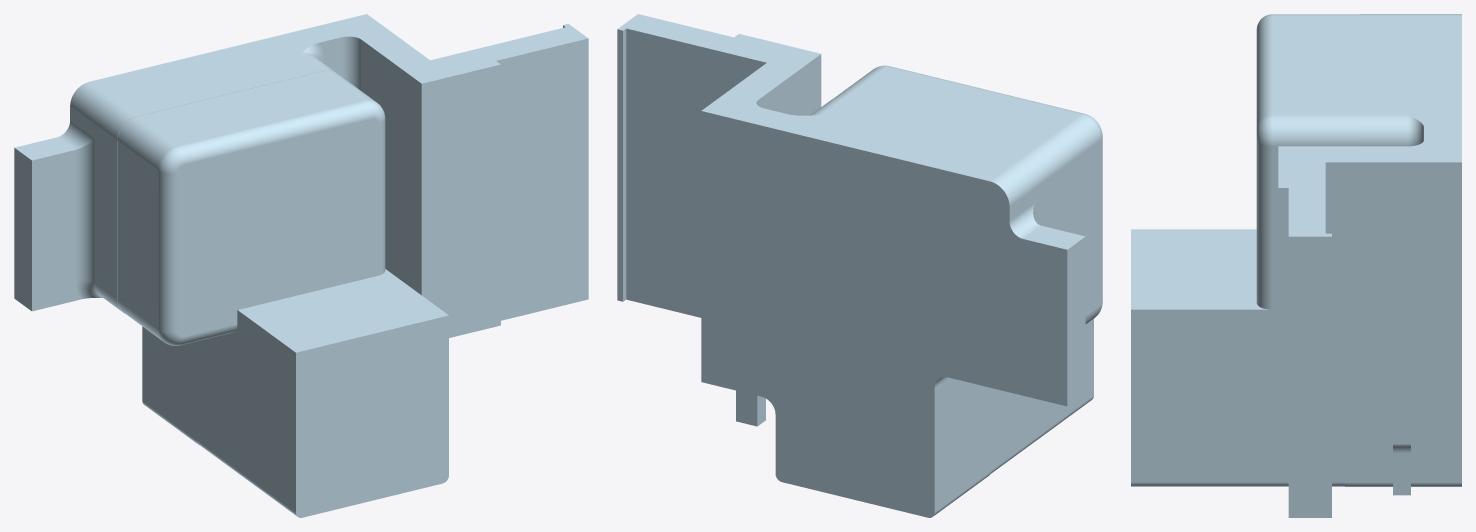
File: VY2_SIMPLE_002.gltf
3 renders of one model, left to right at view 1: azimuth 30°, elevation 25°; view 2: azimuth 150°, elevation 25°; view 3: azimuth 270°, elevation 25°, orthographic. The views are drawn at different scales.
Visible parts, largest first — view 1: mesh960, mesh966, mesh994, mesh992, mesh1000, mesh964, mesh991, mesh963, mesh958, mesh954, mesh1009, mesh973 (+10 smaller); view 2: mesh1008, mesh999, mesh1000, mesh958, mesh973, mesh954, mesh964, mesh1012, mesh991, mesh1001, mesh956, mesh997 (+5 smaller); view 3: mesh990, mesh975, mesh1000, mesh995, mesh963, mesh958, mesh993, mesh962, mesh961, mesh957, mesh979, mesh968 (+4 smaller).
Boxes of the visible parts, bbox=[...] form: mesh960: bbox=[178, 119, 377, 336]; mesh966: bbox=[296, 315, 448, 517]; mesh994: bbox=[496, 38, 588, 320]; mesh992: bbox=[421, 64, 500, 337]; mesh1000: bbox=[89, 14, 588, 116]; mesh964: bbox=[196, 310, 295, 512]; mesh991: bbox=[361, 40, 421, 294]; mesh963: bbox=[238, 269, 448, 352]; mesh958: bbox=[137, 71, 363, 146]; mesh954: bbox=[117, 141, 158, 328]; mesh1009: bbox=[32, 150, 80, 311]; mesh973: bbox=[142, 326, 196, 439]; mesh1008: bbox=[701, 111, 1067, 517]; mesh999: bbox=[626, 28, 766, 317]; mesh1000: bbox=[617, 14, 1038, 181]; mesh958: bbox=[845, 67, 1080, 145]; mesh973: bbox=[934, 378, 990, 511]; mesh954: bbox=[1058, 140, 1100, 315]; mesh964: bbox=[991, 319, 1093, 470]; mesh1012: bbox=[1067, 237, 1085, 406]; mesh991: bbox=[758, 54, 821, 115]; mesh1001: bbox=[990, 145, 1058, 206]; mesh956: bbox=[1039, 115, 1100, 170]; mesh997: bbox=[617, 29, 622, 301]; mesh990: bbox=[1325, 162, 1461, 444]; mesh975: bbox=[1131, 146, 1461, 482]; mesh1000: bbox=[1278, 16, 1461, 236]; mesh995: bbox=[1288, 236, 1331, 517]; mesh963: bbox=[1131, 229, 1268, 309]; mesh958: bbox=[1272, 16, 1359, 114]; mesh993: bbox=[1278, 188, 1288, 469]; mesh962: bbox=[1272, 115, 1359, 146]; mesh961: bbox=[1256, 141, 1272, 309]; mesh957: bbox=[1256, 16, 1272, 127]; mesh979: bbox=[1360, 114, 1408, 146]; mesh968: bbox=[1131, 482, 1344, 486].
Size of the model in its own units: 0.1238 by 0.0811 by 0.0667.
